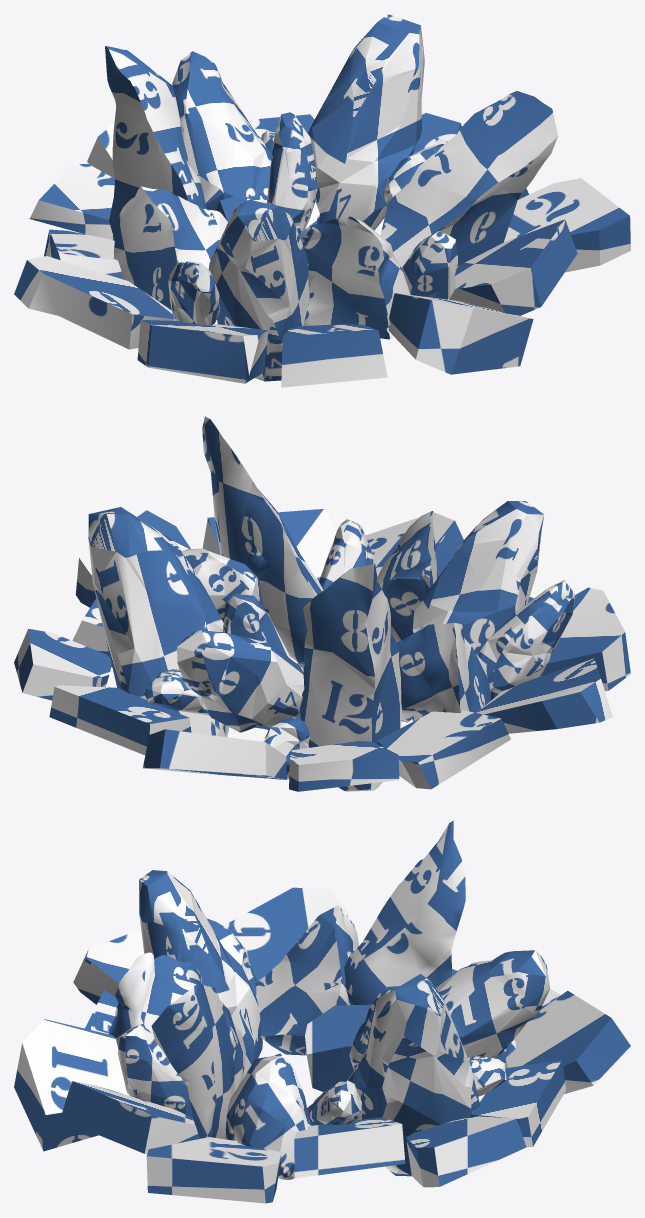
Rendered from Ne_Spl_GroundRock_02.fbx.
The picture shows the model from 3 angles, top to bottom: view 1: azimuth 30°, elevation 25°; view 2: azimuth 150°, elevation 25°; view 3: azimuth 270°, elevation 25°; orthographic projection. The views are drawn at different scales.
Visible parts, largest first — view 1: SM_d_e_P0002_V00_C00_SplBkt_GroundRock_04; view 2: SM_d_e_P0002_V00_C00_SplBkt_GroundRock_04; view 3: SM_d_e_P0002_V00_C00_SplBkt_GroundRock_04.
Part boxes in pixels (<box>): SM_d_e_P0002_V00_C00_SplBkt_GroundRock_04: <box>14,14,630,387</box>; SM_d_e_P0002_V00_C00_SplBkt_GroundRock_04: <box>14,416,630,791</box>; SM_d_e_P0002_V00_C00_SplBkt_GroundRock_04: <box>14,820,630,1203</box>.
Size of the model in its own units: 114 by 50.9 by 112.
1 material, 1 textured.
